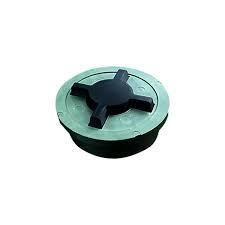PMN 2: (57, 66, 170, 158)
